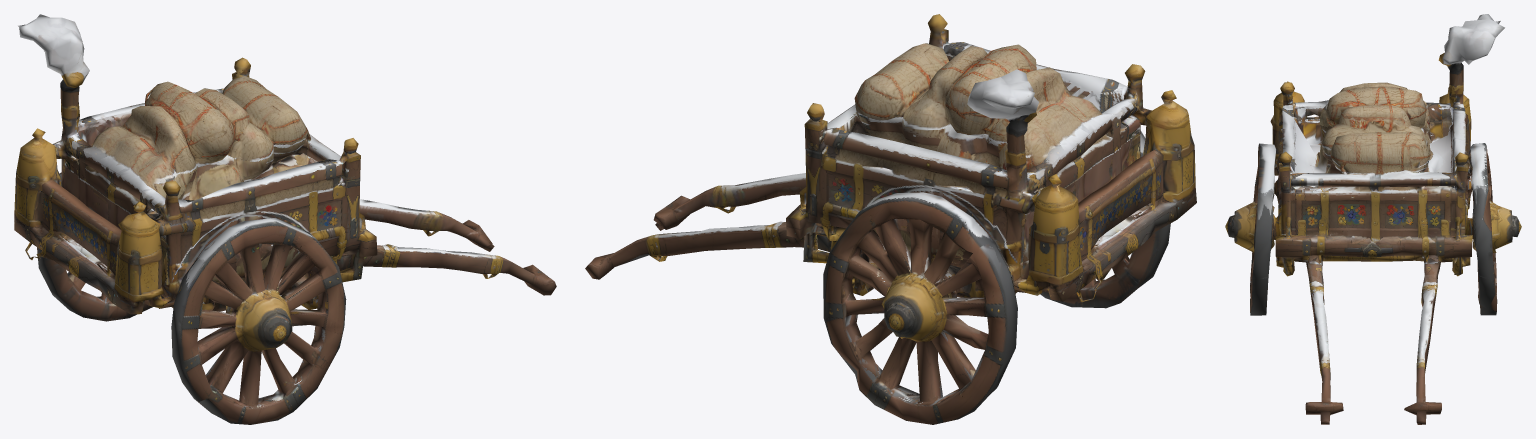
The model's file is PR_OxCart.fbx.
The picture shows the model from 3 angles, left to right: view 1: azimuth 30°, elevation 25°; view 2: azimuth 150°, elevation 25°; view 3: azimuth 270°, elevation 25°; orthographic projection. The views are drawn at different scales.
Visible parts, largest first — view 1: texture_mapping; view 2: texture_mapping; view 3: texture_mapping.
Part boxes in pixels (x1,y1,x2,y2): texture_mapping: (14,14,556,424); texture_mapping: (585,14,1196,424); texture_mapping: (1225,14,1521,424).
Size of the model in its own units: 0.9867 by 0.6848 by 0.6571.
1 material, 1 textured.
